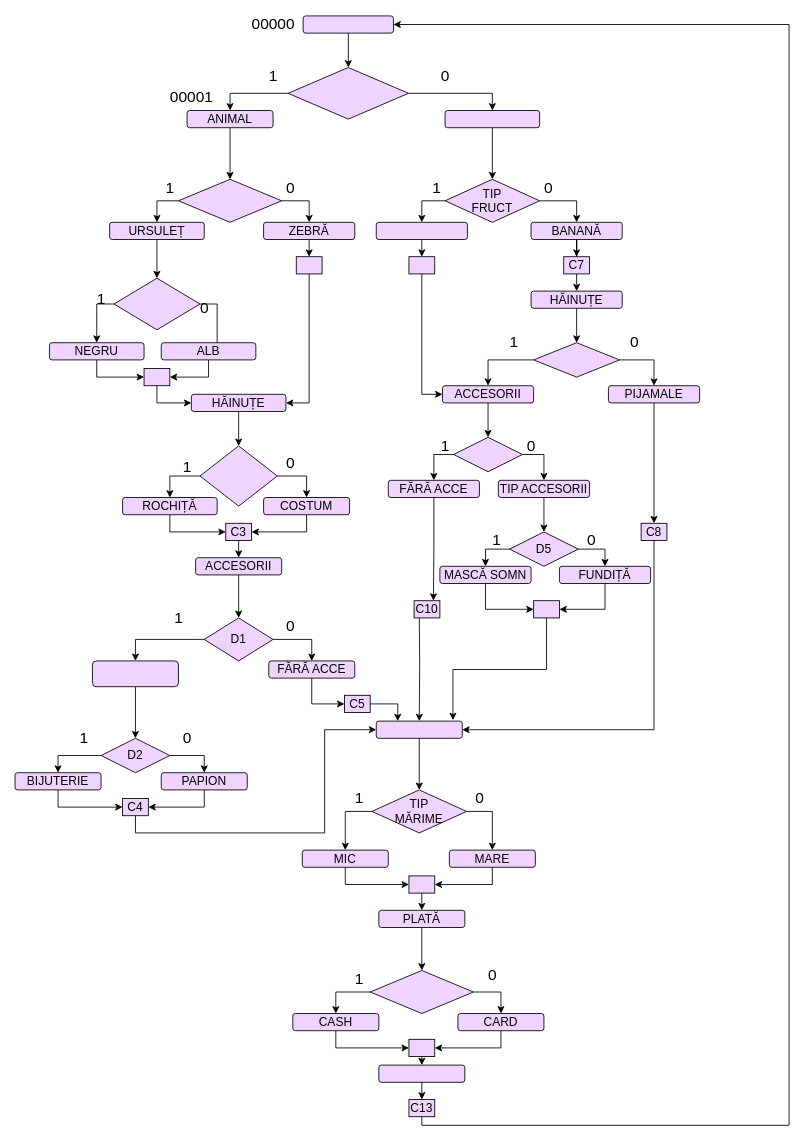
The diagram is 811 pixels wide and 1147 high, and some of its shapes have lost their labels. Each missing label, with the box of its shape:
C1: (295, 256, 322, 274)
C11: (408, 875, 435, 893)
C12: (408, 1038, 435, 1057)
C2: (143, 368, 170, 386)
C6: (408, 256, 435, 274)
C9: (533, 600, 559, 618)
CULOARE: (113, 277, 200, 330)
CĂPȘUNĂ: (375, 221, 467, 240)
D3: (533, 342, 620, 377)
D4: (453, 436, 522, 472)
DIMENSIUNE: (375, 720, 462, 738)
FRUCT: (444, 110, 540, 128)
START: (302, 15, 393, 33)
STOP: (378, 1064, 465, 1082)
TIP ACCESORIU: (92, 660, 178, 687)
TIP ANIMAL: (178, 178, 282, 222)
TIP HĂINUȚE: (199, 445, 277, 506)
TIP PLATĂ: (369, 970, 473, 1014)
TIP PRODUS: (287, 67, 408, 119)
